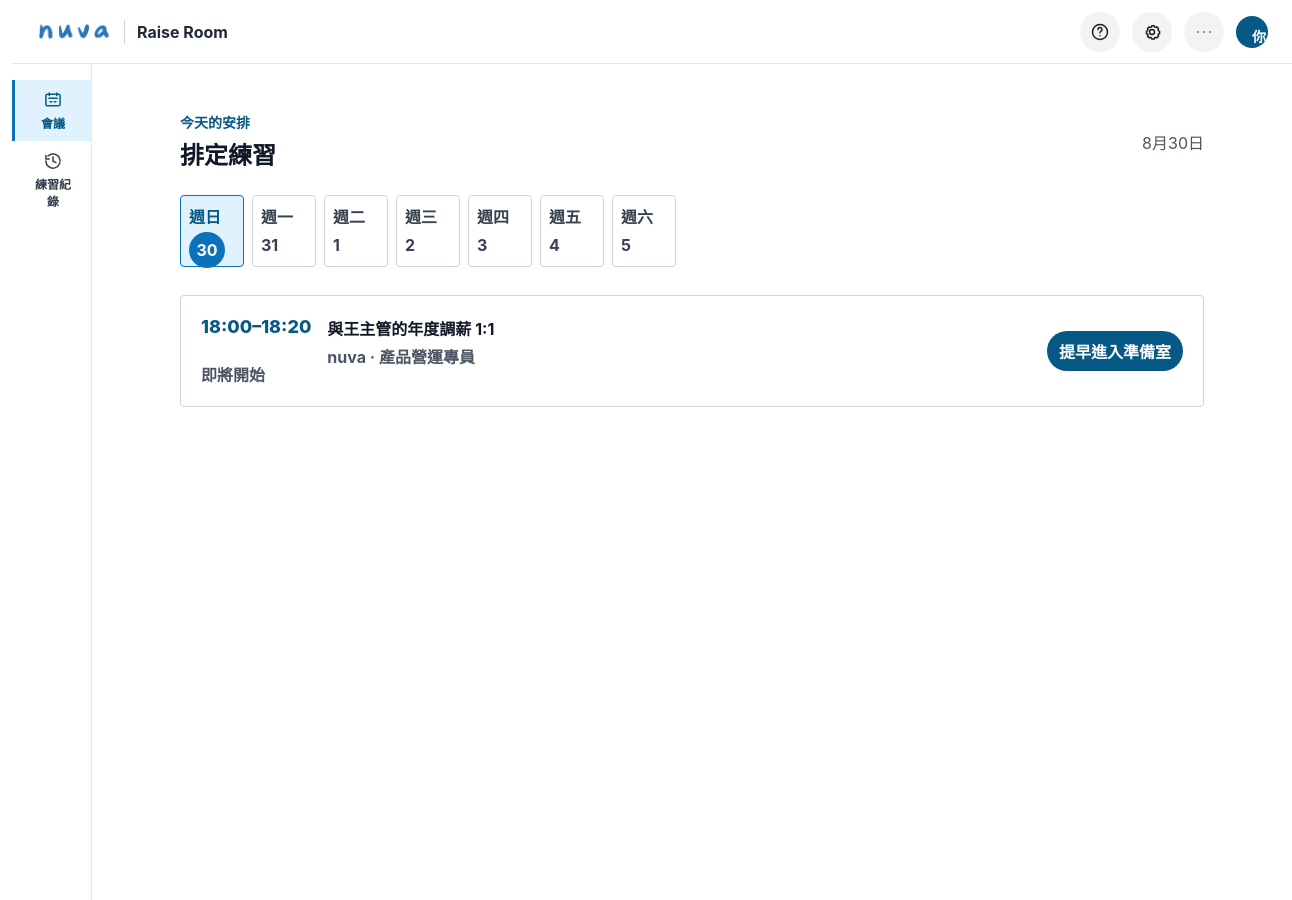
Scenario: shows an empty state for a future date and restores today schedule
The width and height of the screenshot is (1292, 900).
What coordinates should you click on to do the following:
click the button with aria-label "8月31日"
I would click on:
 (284, 231)
Its box is [252,195,316,267].
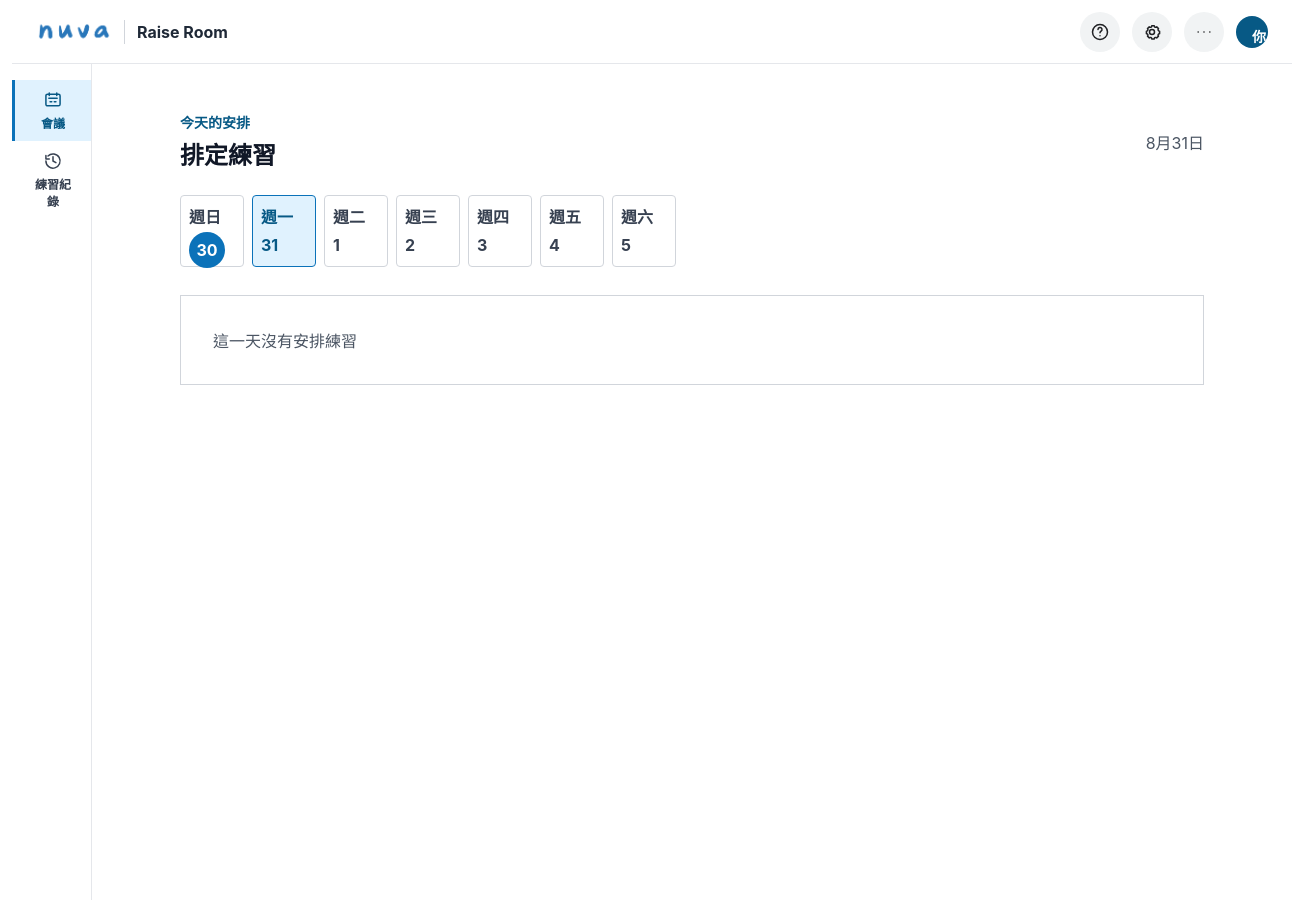
Result: the text "這一天沒有安排練習" is shown at [180,295,1204,385]
What coordinates should you click on to do the following:
click the button with aria-label "8月30日"
I would click on:
 (212, 231)
Its box is [180,195,244,267].
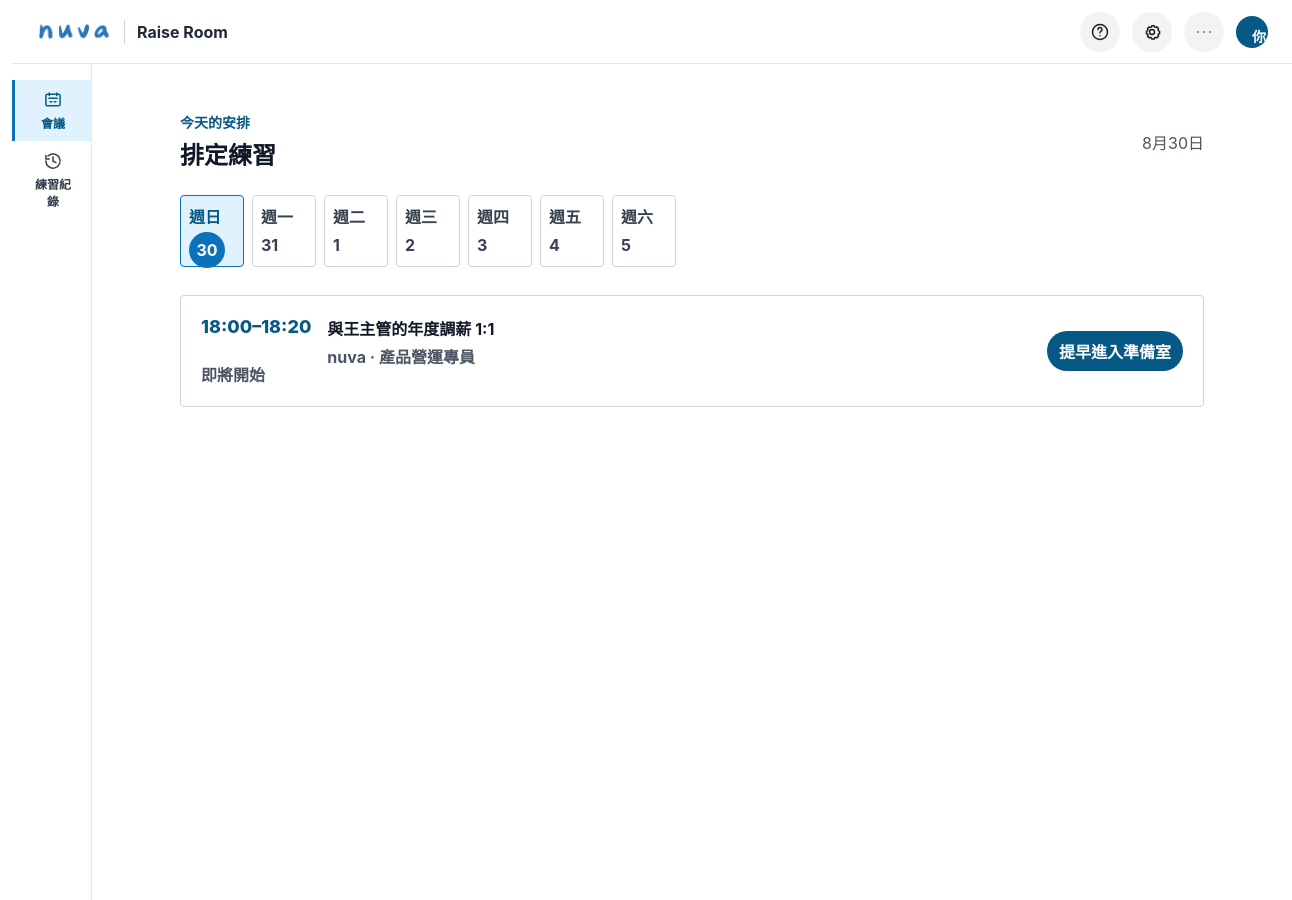
Result: the text "與王主管的年度調薪 1:1" is shown at [327,319,494,339]
